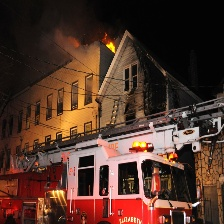fire: (97, 32, 116, 53)
smoke: (37, 20, 95, 60)
